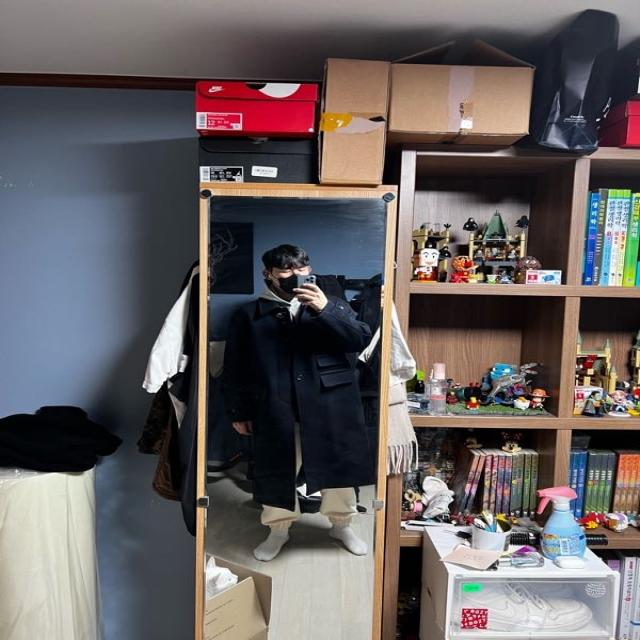coat: (224, 285, 372, 511)
trainingpants: (260, 407, 356, 531)
